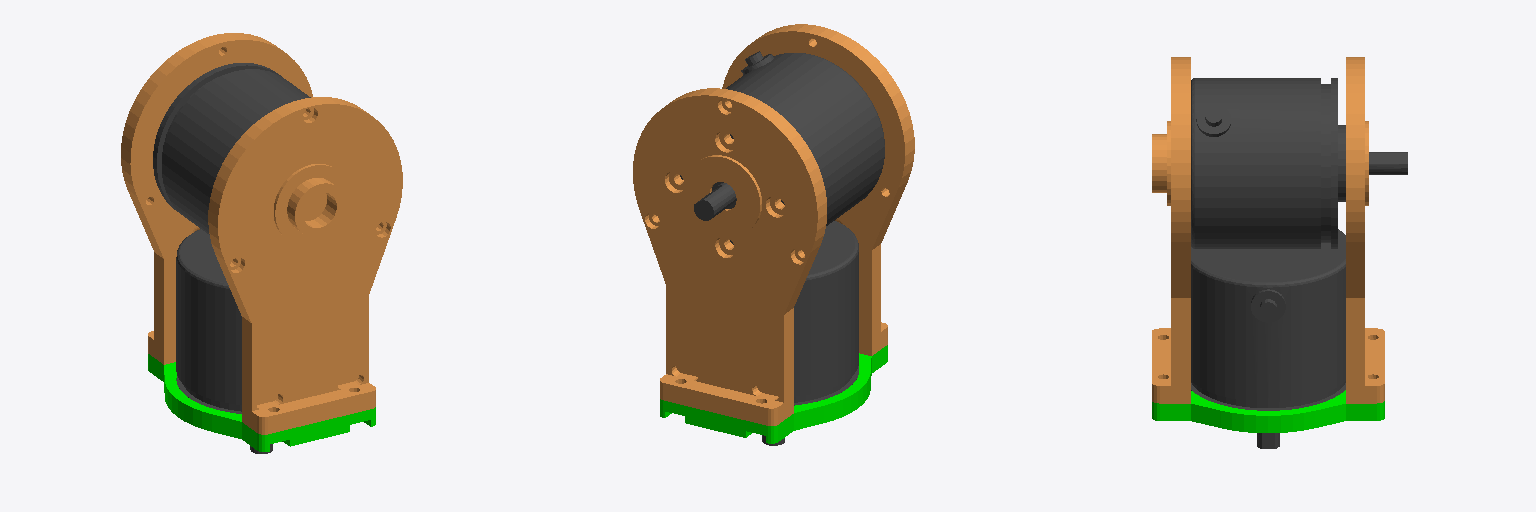
Rendered from Joint1trial.obj.
The picture shows the model from 3 angles: view 1: azimuth 30°, elevation 25°; view 2: azimuth 150°, elevation 25°; view 3: azimuth 270°, elevation 25°; orthographic projection.
Bounding box in the file's own units: 5.5 × 10.75 × 6.6.